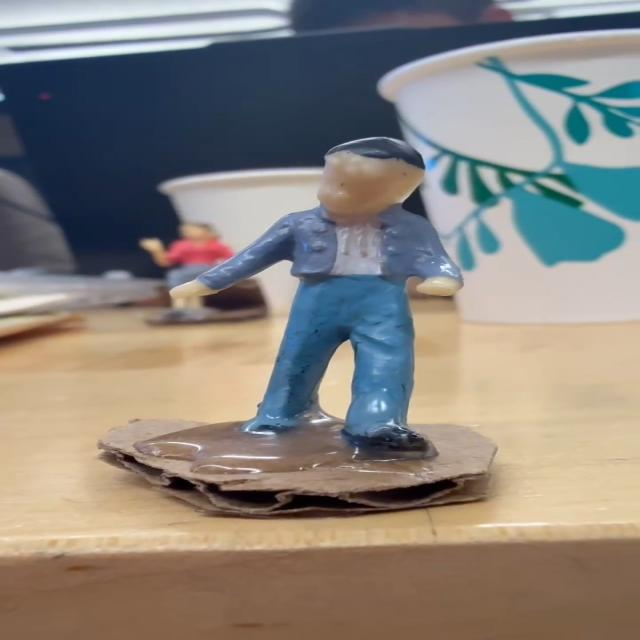Authorized: (173, 139, 458, 453)
